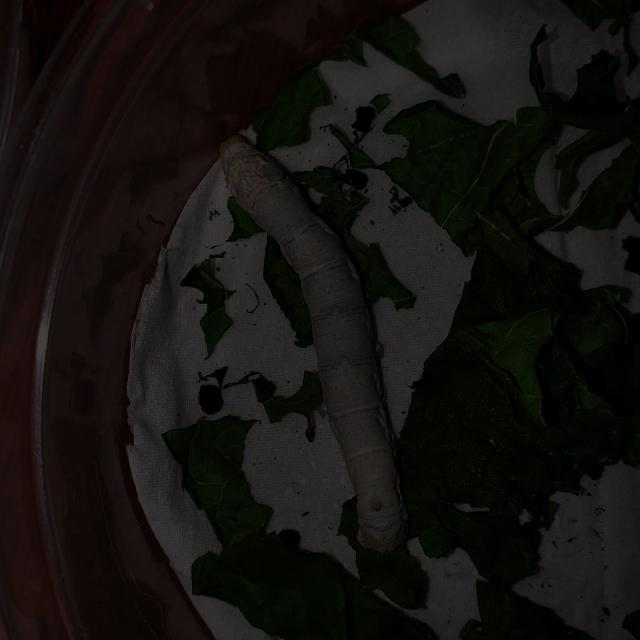Healthy: (200, 115, 447, 562)
